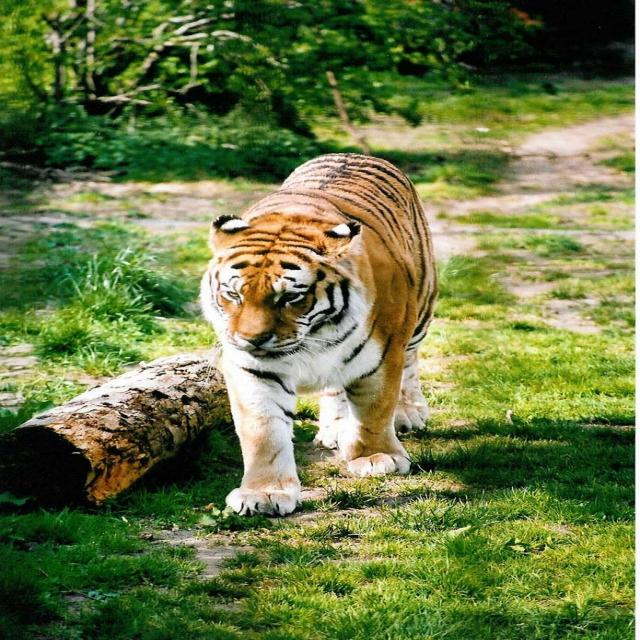Tiger: (198, 152, 440, 512)
